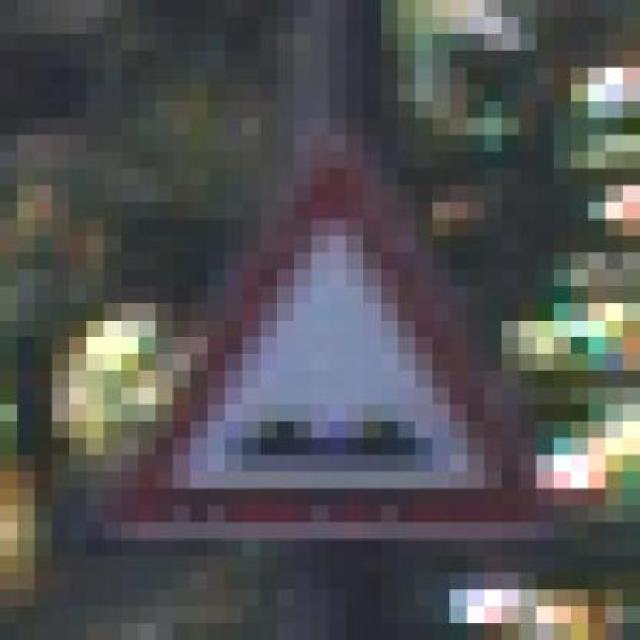Uneven Road: (69, 118, 571, 556)
